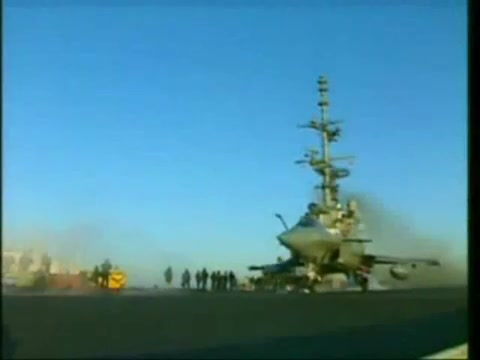aeroplane: (247, 211, 442, 292)
